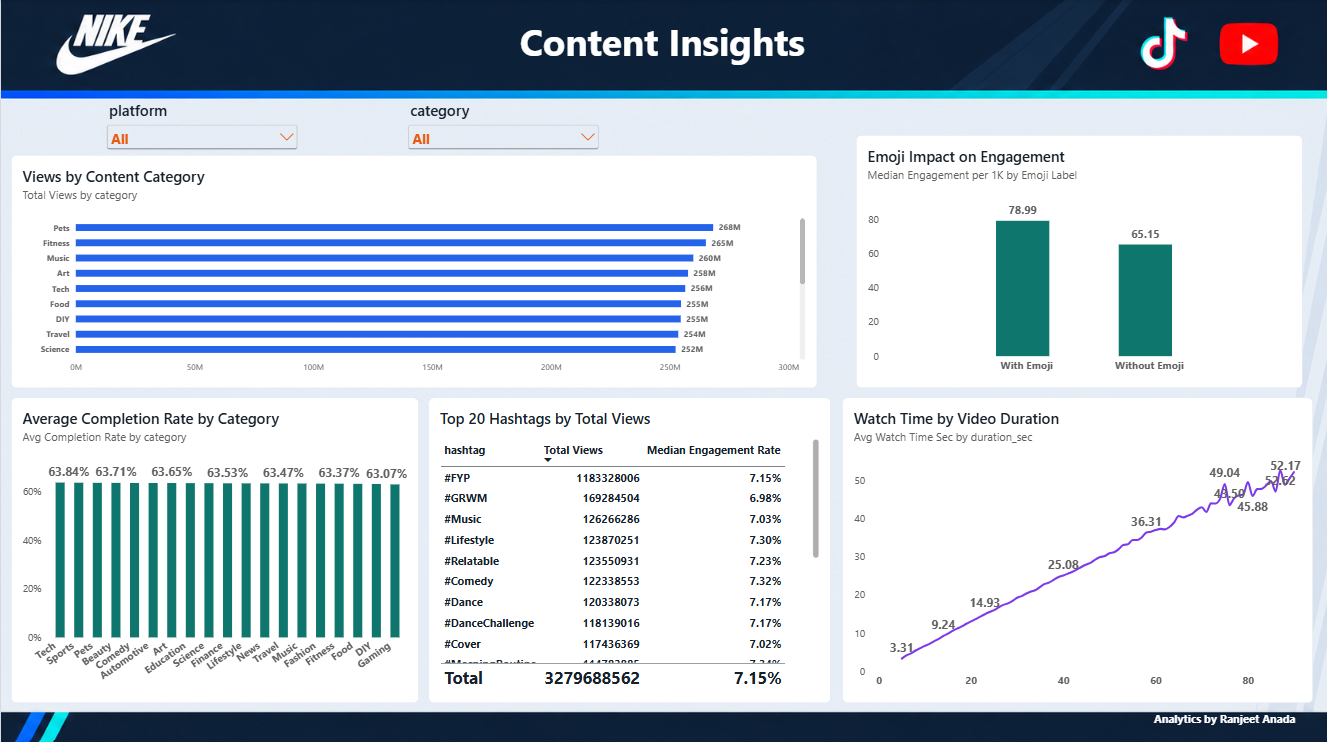

Layout of this report page (visuals, bound fields, positions):
{"tool":"powerbi","page":{"name":"Content Insights","canvas":[1920,1080],"ordinal":1},"visuals":[{"type":"slicer","fields":{"Values":["Nike_Videos.platform"]},"box":[148.2,144.1,286.1,76.2],"z":0},{"type":"slicer","fields":{"Values":["Nike_Videos.category"]},"box":[584.6,144.1,286.1,76],"z":1000},{"type":"clusteredBarChart","title":"Views by Content Category","fields":{"Y":["Nike_Measures.Total Views"],"Category":["Nike_Videos.category"]},"box":[14.4,224.4,1167.1,337.6],"z":2000},{"type":"clusteredColumnChart","title":"Average Completion Rate by Category","fields":{"Category":["Nike_Videos.category"],"Y":["Nike_Measures.Avg Completion Rate"]},"box":[14.4,576.3,590.7,442.5],"z":3000},{"type":"tableEx","title":"Top 20 Hashtags by Total Views","fields":{"Values":["Nike_Videos.hashtag","Nike_Measures.Total Views","Nike_Measures.Median Engagement Rate"]},"box":[619.6,576.3,582.5,442.5],"z":4000},{"type":"clusteredColumnChart","title":"Emoji Impact on Engagement","fields":{"Y":["Nike_Measures.Median Engagement per 1K"],"Category":["Nike_Videos.Emoji Label"]},"box":[1237.1,195.5,646.3,366.4],"z":5000},{"type":"lineChart","title":"Watch Time by Video Duration","fields":{"Category":["Nike_Videos.duration_sec"],"Y":["Nike_Measures.Avg Watch Time Sec"]},"box":[1218.5,576.3,681.3,442.5],"z":6000},{"type":"textbox","box":[681.3,22.6,553.7,113.2],"z":6001},{"type":"textbox","box":[1644.6,1029.2,253.2,32.9],"z":6002}]}

Visuals, with their boxes in screenshot pixels (x1, y1, x2, y2), scaled from the page's 1920x1080 canvas onto the 1327x742 screenshot:
slicer - Nike_Videos.platform: [102, 99, 300, 151]
slicer - Nike_Videos.category: [404, 99, 602, 151]
"Views by Content Category" clusteredBarChart: [10, 154, 817, 386]
"Average Completion Rate by Category" clusteredColumnChart: [10, 396, 418, 700]
"Top 20 Hashtags by Total Views" tableEx: [428, 396, 831, 700]
"Emoji Impact on Engagement" clusteredColumnChart: [855, 134, 1302, 386]
"Watch Time by Video Duration" lineChart: [842, 396, 1313, 700]
textbox: [471, 16, 854, 93]
textbox: [1137, 707, 1312, 730]
